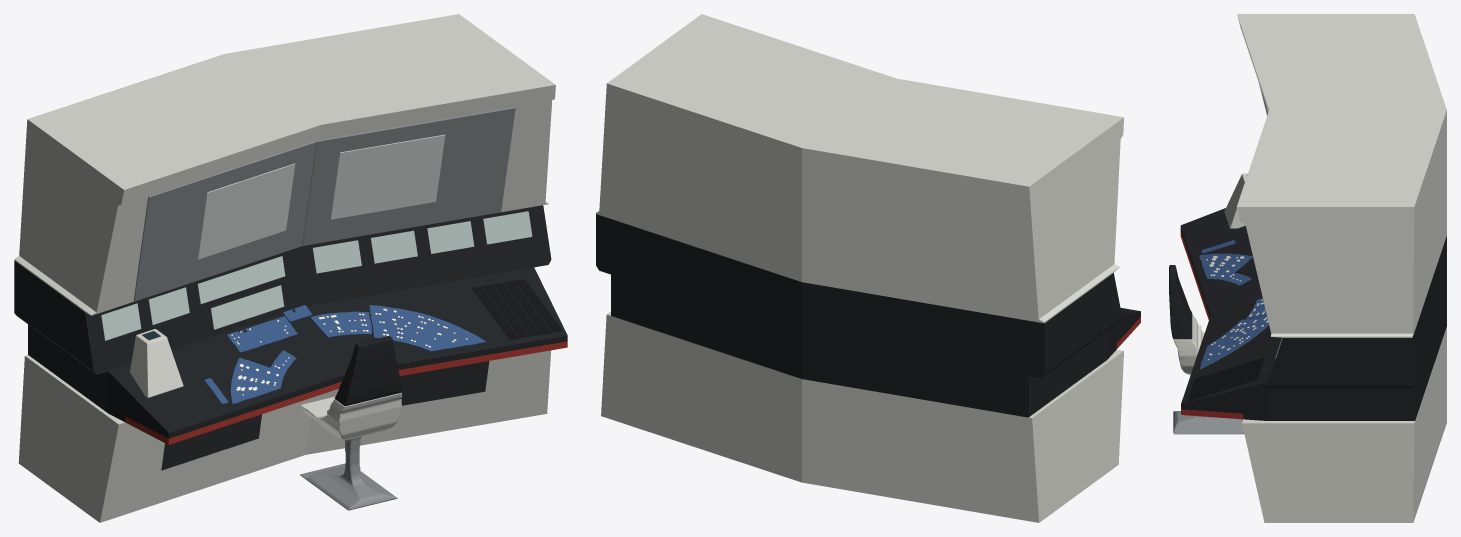
The model's file is command-intelligence.glb.
3 views of the same model, side by side, from view 1: azimuth 30°, elevation 25°; view 2: azimuth 150°, elevation 25°; view 3: azimuth 270°, elevation 25° (orthographic). The views are drawn at different scales.
Parts seen in each view (by area): view 1: command-intelligence_housing_left, command-intelligence_housing_right, command-intelligence_pedestal_left, command-intelligence_console_left, command-intelligence_vi_panel_right, command-intelligence_vi_panel_left, command-intelligence_band_left, command-intelligence_band_right, command-intelligence_console_right, command-intelligence_pedestal_right, command-intelligence_vi_display_1, command-intelligence_vi_display_0 (+20 smaller); view 2: command-intelligence_housing_left, command-intelligence_housing_right, command-intelligence_pedestal_left, command-intelligence_pedestal_right, command-intelligence_band_left, command-intelligence_console_left, command-intelligence_band_right, command-intelligence_console_right; view 3: command-intelligence_housing_right, command-intelligence_pedestal_right, command-intelligence_housing_left, command-intelligence_console_right, command-intelligence_band_right, command-intelligence_console_left, command-intelligence_panel_right_0, command-intelligence_chair_base, command-intelligence_chair_back, command-intelligence_panel_left_5, command-intelligence_chair_seat, command-intelligence_scanner (+1 smaller).
Part boxes in pixels (x1,y1,x2,y2): command-intelligence_housing_left: [14, 54, 320, 315]; command-intelligence_housing_right: [225, 14, 555, 212]; command-intelligence_pedestal_left: [18, 355, 312, 522]; command-intelligence_console_left: [28, 310, 348, 438]; command-intelligence_vi_panel_right: [302, 107, 515, 246]; command-intelligence_vi_panel_left: [133, 141, 316, 301]; command-intelligence_band_left: [14, 248, 304, 374]; command-intelligence_band_right: [296, 205, 551, 305]; command-intelligence_console_right: [306, 267, 567, 369]; command-intelligence_pedestal_right: [305, 350, 551, 454]; command-intelligence_vi_display_1: [330, 134, 445, 219]; command-intelligence_vi_display_0: [198, 163, 295, 259]; command-intelligence_housing_left: [802, 78, 1123, 323]; command-intelligence_housing_right: [596, 14, 896, 281]; command-intelligence_pedestal_left: [802, 349, 1123, 522]; command-intelligence_pedestal_right: [601, 311, 801, 482]; command-intelligence_band_left: [802, 273, 1122, 378]; command-intelligence_console_left: [802, 308, 1140, 417]; command-intelligence_band_right: [596, 214, 801, 337]; command-intelligence_console_right: [611, 274, 801, 378]; command-intelligence_housing_right: [1237, 110, 1446, 337]; command-intelligence_pedestal_right: [1242, 326, 1446, 522]; command-intelligence_housing_left: [1237, 14, 1446, 111]; command-intelligence_console_right: [1181, 288, 1446, 420]; command-intelligence_band_right: [1266, 236, 1446, 388]; command-intelligence_console_left: [1180, 208, 1262, 317]; command-intelligence_panel_right_0: [1200, 316, 1268, 369]; command-intelligence_chair_base: [1173, 411, 1244, 434]; command-intelligence_chair_back: [1169, 265, 1192, 339]; command-intelligence_panel_left_5: [1199, 253, 1252, 285]; command-intelligence_chair_seat: [1173, 314, 1204, 374]; command-intelligence_scanner: [1224, 173, 1247, 228].
Bounding box in the file's own units: 3.24 × 2.32 × 1.86.
